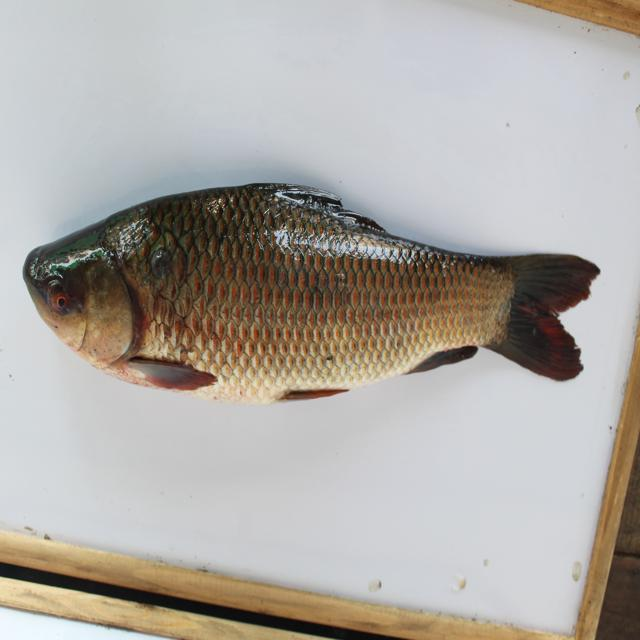Rohu: (19, 161, 600, 421)
